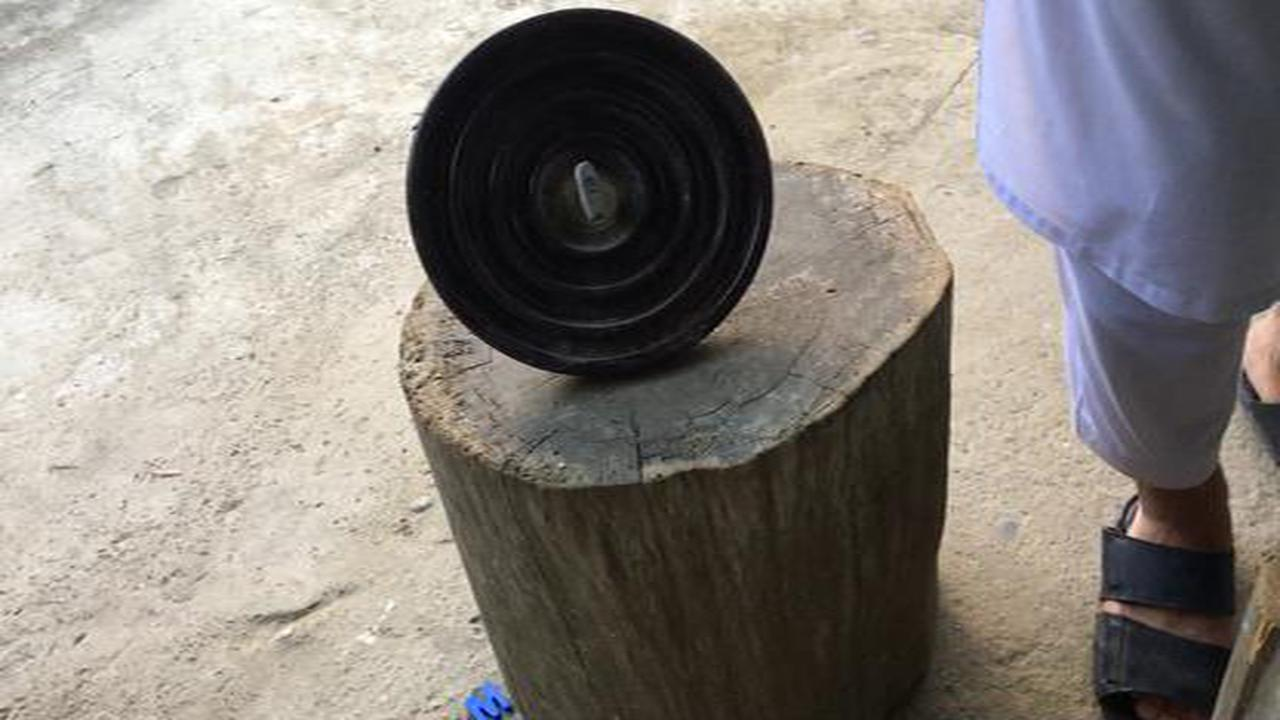insulator_disc: (400, 4, 780, 391)
